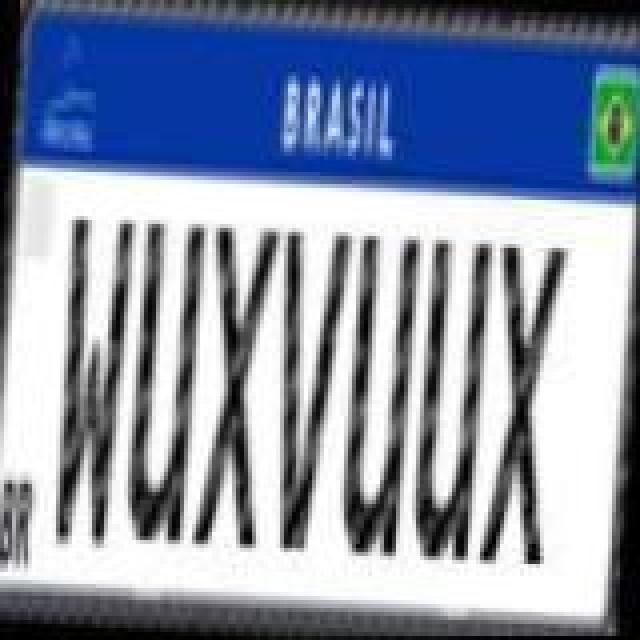U: (124, 216, 204, 548), (340, 234, 420, 566), (412, 234, 492, 566)
V: (264, 224, 352, 556)
W: (50, 212, 134, 548)
X: (192, 218, 280, 550), (480, 238, 568, 570)
